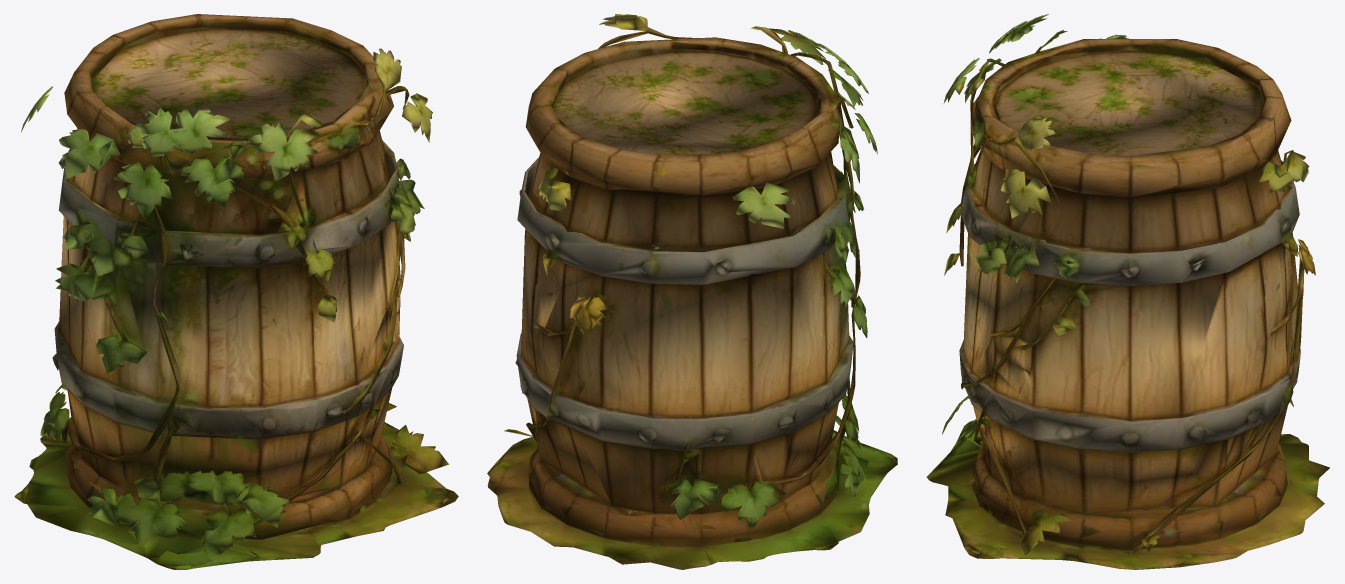
File: barrels.glb
3 renders of one model, left to right at view 1: azimuth 30°, elevation 25°; view 2: azimuth 150°, elevation 25°; view 3: azimuth 270°, elevation 25°, orthographic. The views are drawn at different scales.
Parts seen in each view (by area): view 1: material; view 2: material; view 3: material.
Boxes of the visible parts, x1,y1,x2,y2 form: material: [14, 14, 458, 569]; material: [487, 14, 897, 569]; material: [926, 14, 1329, 569].
Bounding box in the file's own units: 0.7563 × 0.8555 × 0.7433.
Materials: 1 (1 with a texture image).
